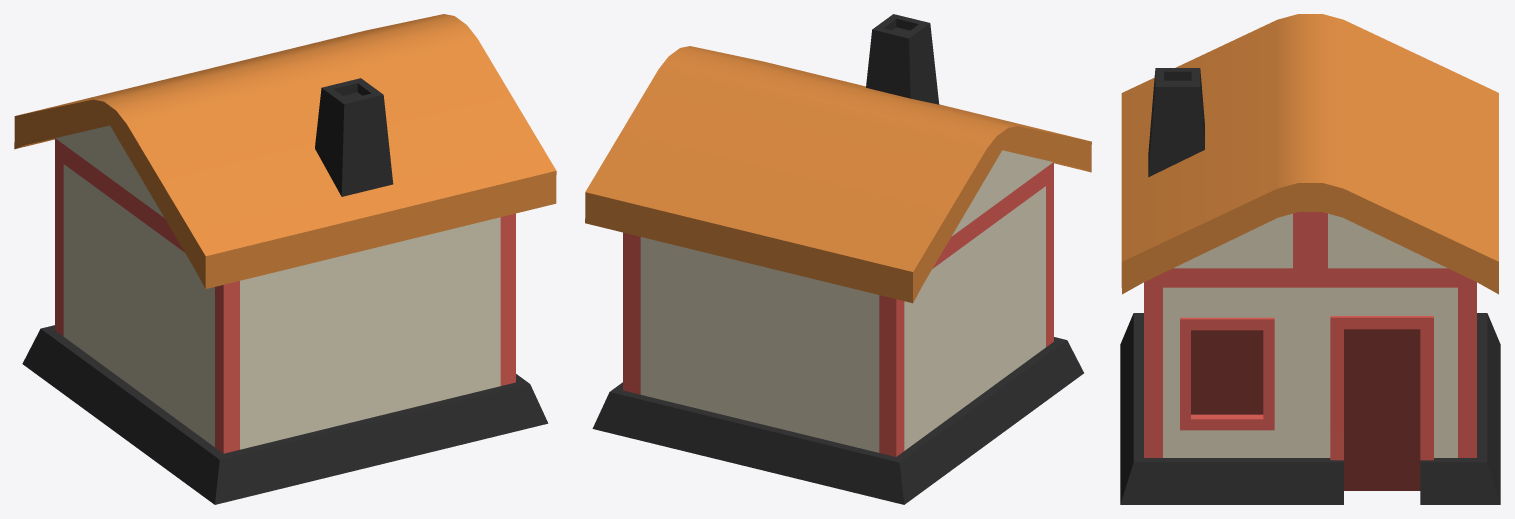
The model's file is Casa_r00.fbx.
The picture shows the model from 3 angles, left to right: view 1: azimuth 30°, elevation 25°; view 2: azimuth 150°, elevation 25°; view 3: azimuth 270°, elevation 25°; orthographic projection. The views are drawn at different scales.
Parts seen in each view (by area): view 1: CASA_R00; view 2: CASA_R00; view 3: CASA_R00.
Boxes of the visible parts, left/top/right/bottom form: CASA_R00: left=14, top=14, right=556, bottom=504; CASA_R00: left=585, top=14, right=1091, bottom=504; CASA_R00: left=1120, top=14, right=1500, bottom=504.
Size of the model in its own units: 240 by 230 by 228.
